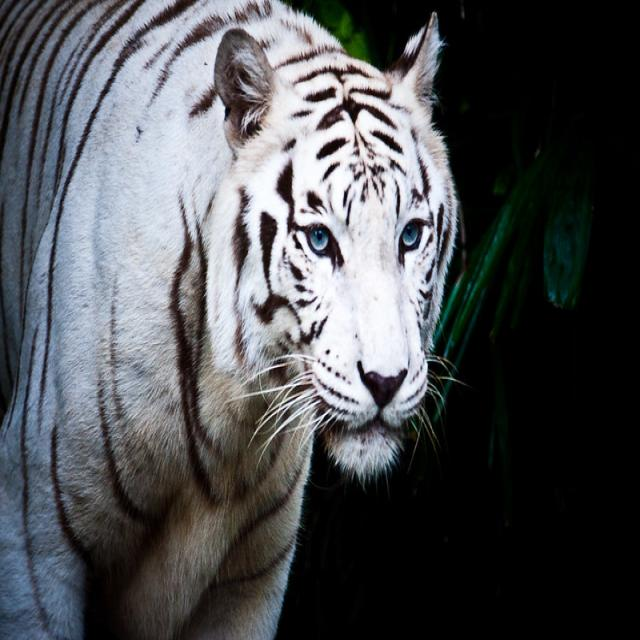Tiger: (8, 0, 460, 621)
